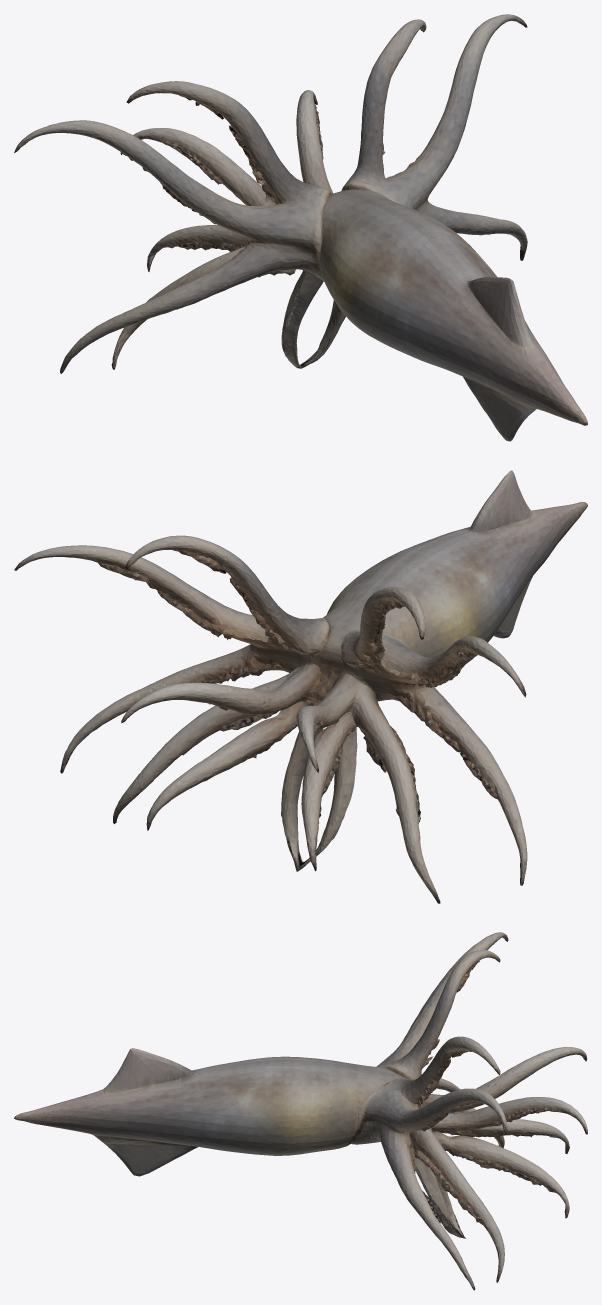
3 views of the same model, one above another, from view 1: azimuth 30°, elevation 25°; view 2: azimuth 150°, elevation 25°; view 3: azimuth 270°, elevation 25° (orthographic). The views are drawn at different scales.
Visible parts, largest first — view 1: world; view 2: world; view 3: world.
Boxes of the visible parts, x1,y1,x2,y2 form: world: (14, 14, 587, 441); world: (14, 470, 587, 903); world: (14, 932, 587, 1290).
Size of the model in its own units: 0.79 by 0.4578 by 0.9847.
Materials: 1 (1 with a texture image).
